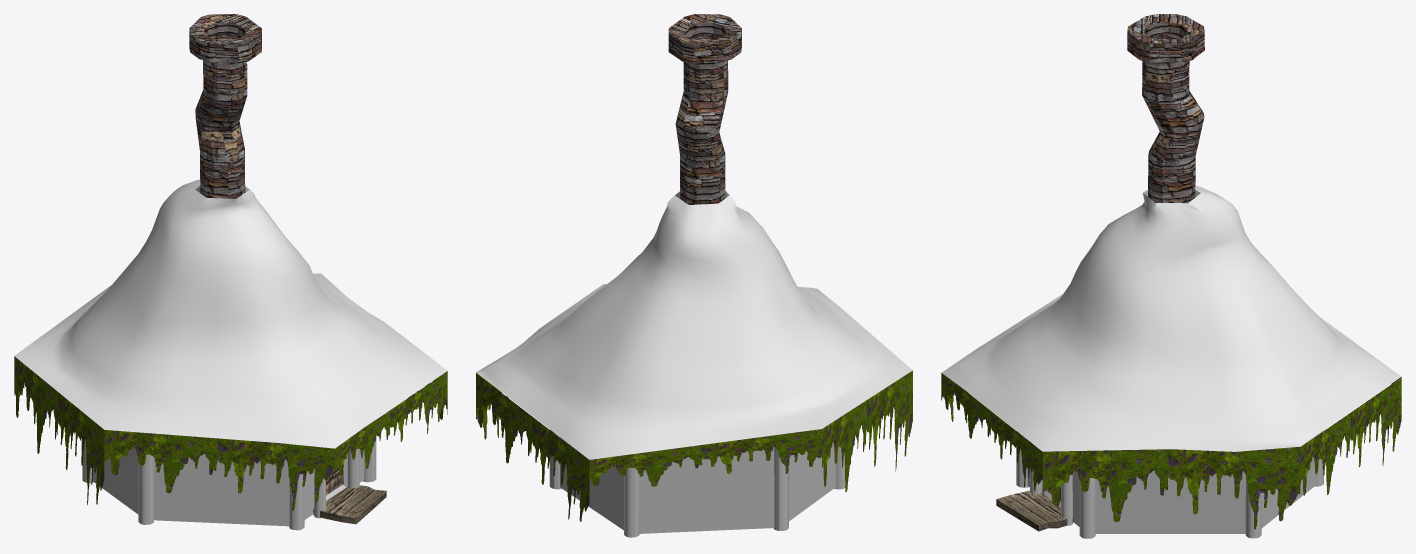
Rendered from house.fbx.
The picture shows the model from 3 angles, left to right: view 1: azimuth 30°, elevation 25°; view 2: azimuth 150°, elevation 25°; view 3: azimuth 270°, elevation 25°; orthographic projection.
Parts seen in each view (by area): view 1: Plane.004, Plane.005, Plane, Plane.001, Circle.020, Plane.002; view 2: Plane.004, Plane.005, Plane, Plane.001, Circle.020; view 3: Plane.004, Plane.005, Plane.001, Plane, Circle.020, Plane.002.
Part boxes in pixels (box(x1,y1,x2,y2)): Plane.004: box(14, 179, 447, 448); Plane.005: box(14, 356, 447, 510); Plane: box(92, 428, 364, 526); Plane.001: box(189, 14, 261, 198); Circle.020: box(82, 420, 376, 530); Plane.002: box(313, 485, 386, 524); Plane.004: box(476, 191, 912, 459); Plane.005: box(476, 370, 912, 521); Plane: box(560, 437, 835, 533); Plane.001: box(668, 14, 741, 204); Circle.020: box(549, 429, 845, 537); Plane.004: box(941, 185, 1400, 451); Plane.005: box(941, 373, 1401, 529); Plane.001: box(1127, 14, 1204, 203); Plane: box(1027, 435, 1316, 533); Circle.020: box(1016, 430, 1323, 538); Plane.002: box(996, 490, 1073, 531).
Bounding box in the file's own units: 3361 × 4418 × 4051.
